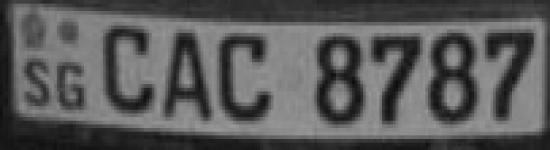7: (366, 30, 425, 127), (483, 26, 538, 128)
8: (308, 28, 366, 130), (428, 26, 481, 128)
A: (158, 26, 215, 124)
C: (214, 26, 280, 132), (102, 20, 158, 120)
G: (56, 57, 92, 115)
S: (20, 52, 54, 114)
